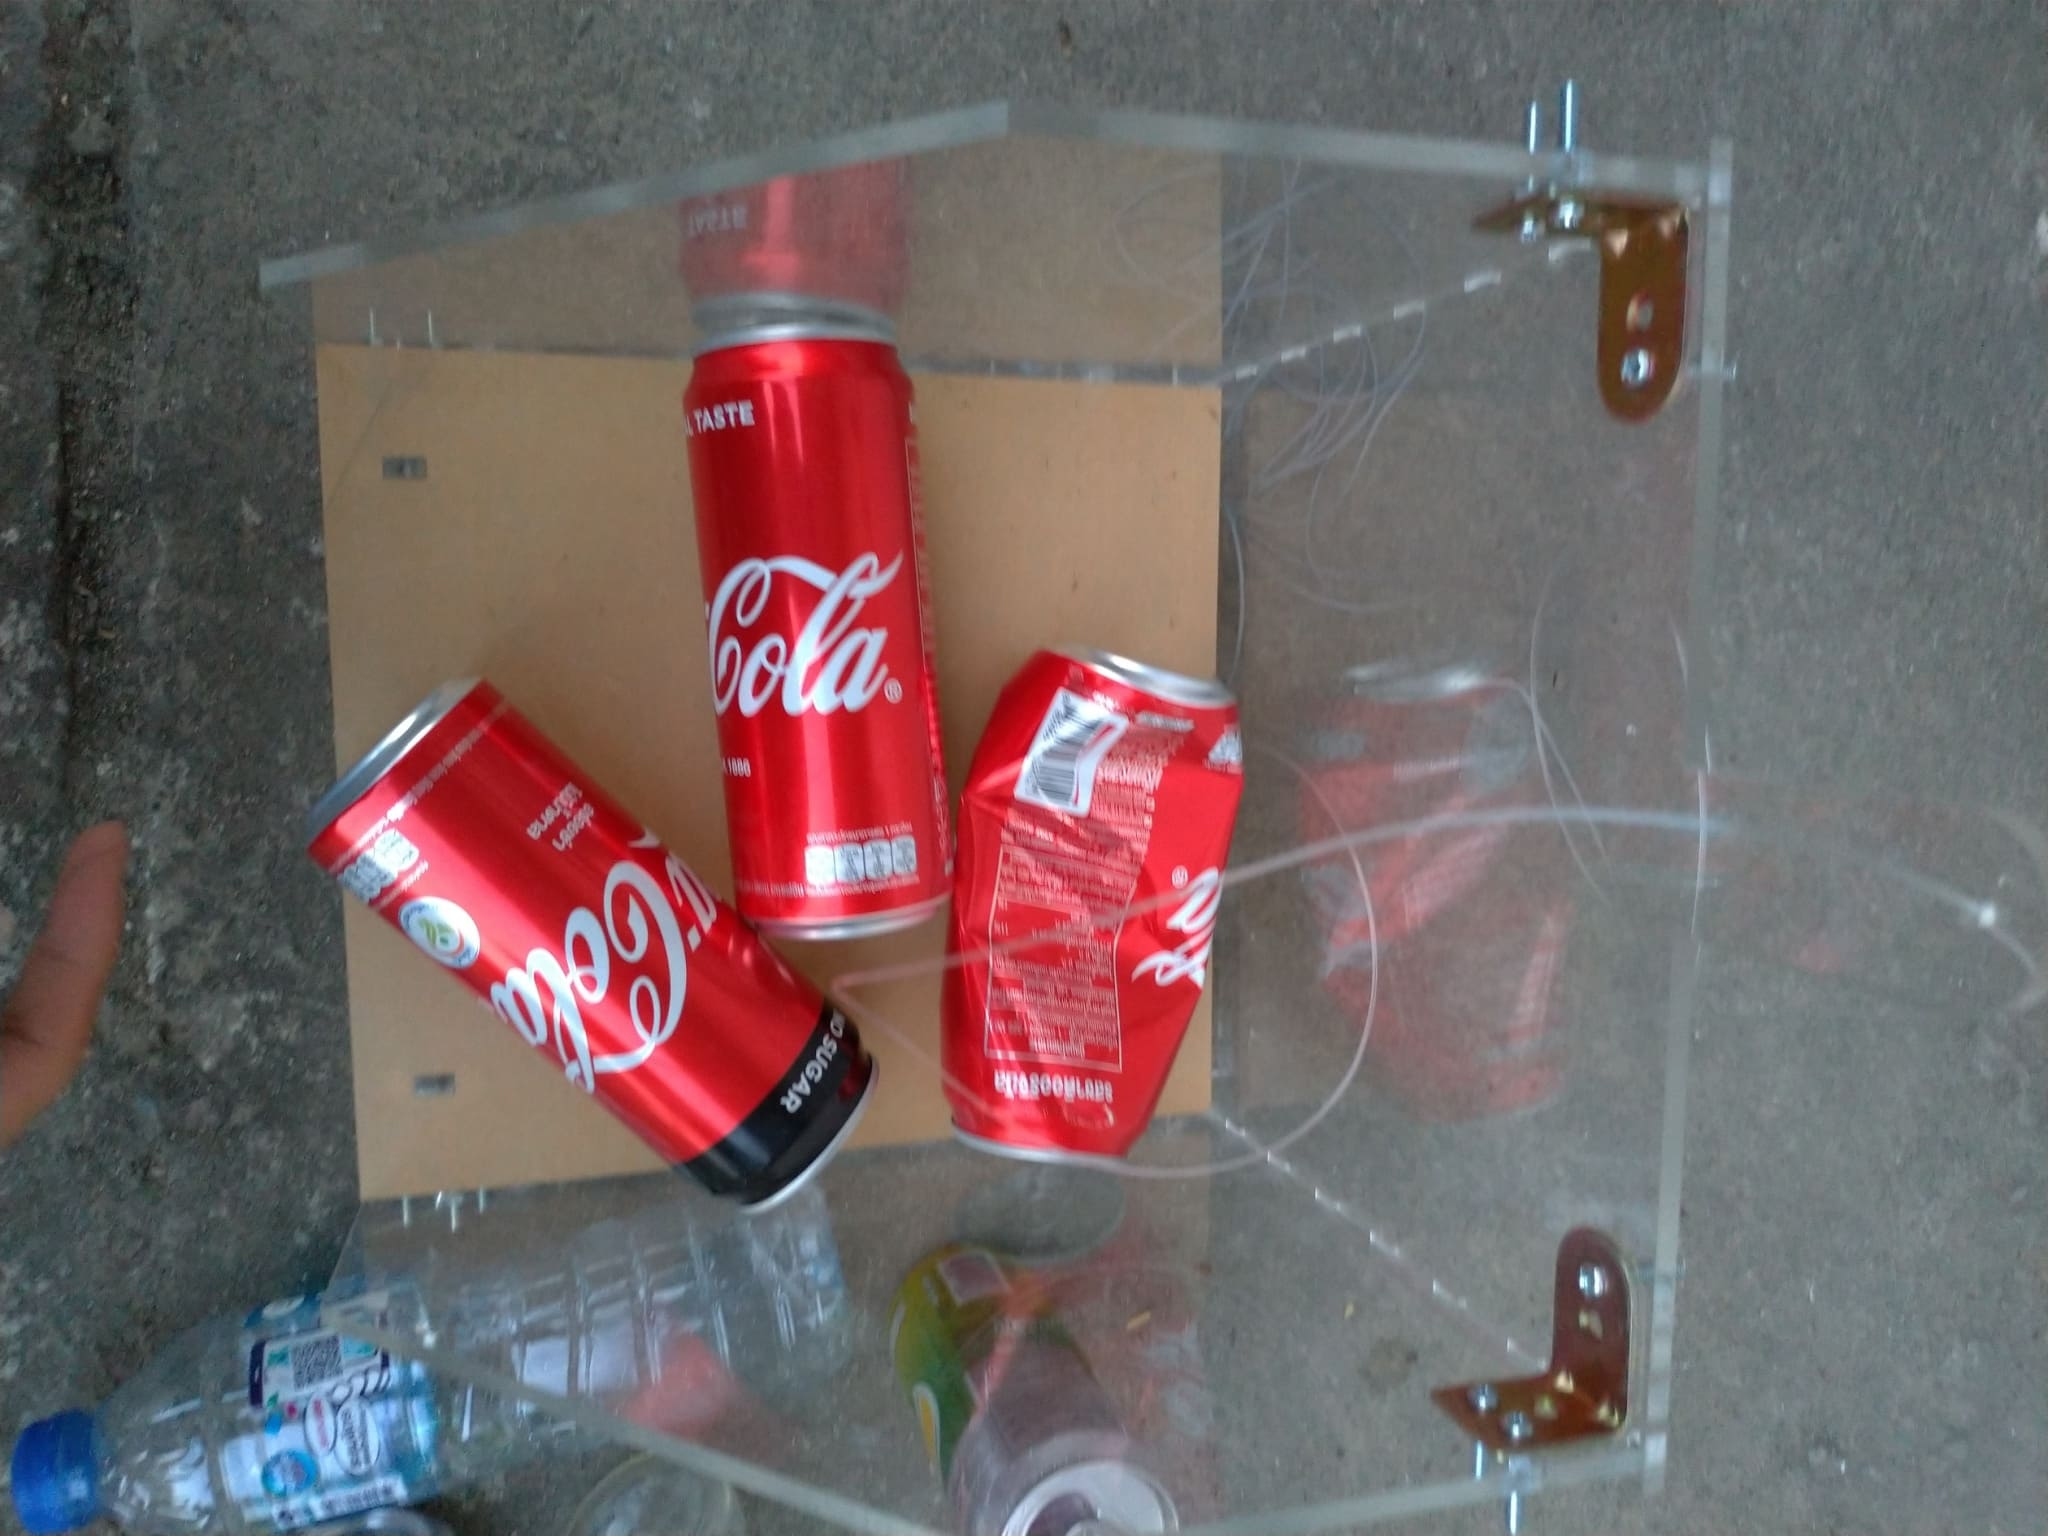AlCan: (310, 674, 877, 1213), (685, 328, 956, 937), (948, 641, 1248, 1165), (885, 1242, 1184, 1533)
PlasticBottle: (18, 1171, 871, 1526)
